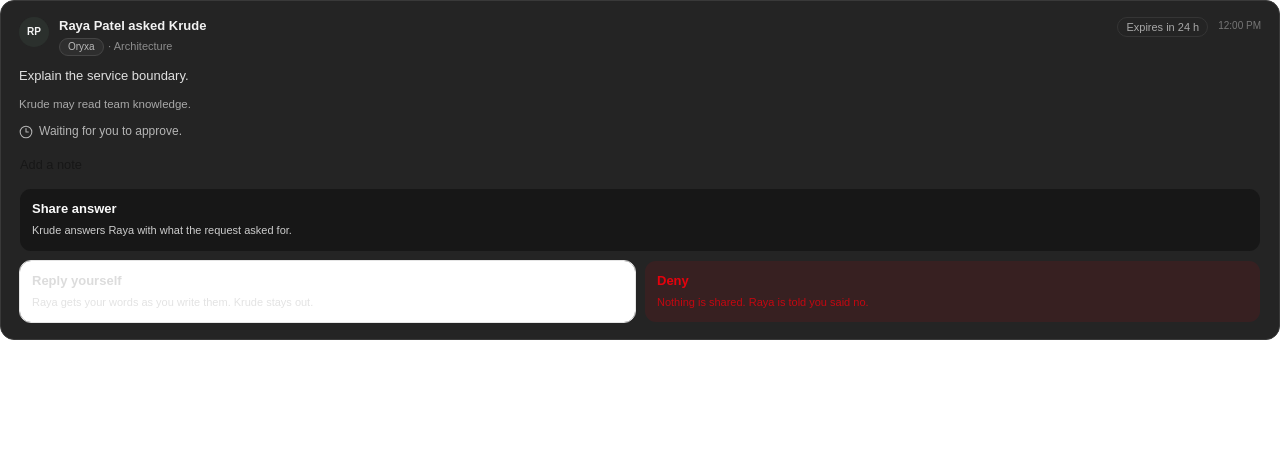
Reply yourself, under a request's own choices › is offered under a request an agent filed, between Share answer and Deny
Expected: the text "Waiting for you to approve." is shown, [39,123,182,140]
Click the button with aria-label "Reply yourself to Raya's request".
click(77, 280)  # box [19,260,636,323]
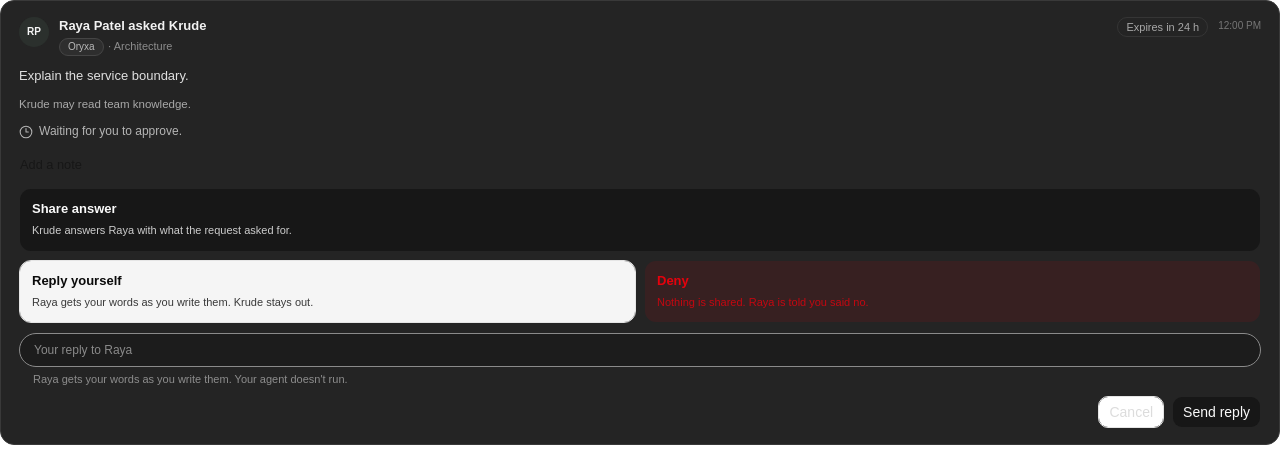
Type "Not before Friday." into the text box named "Reply yourself to Raya's request".
click(640, 350); type("Not before Friday.")  # box [34,337,1246,363]
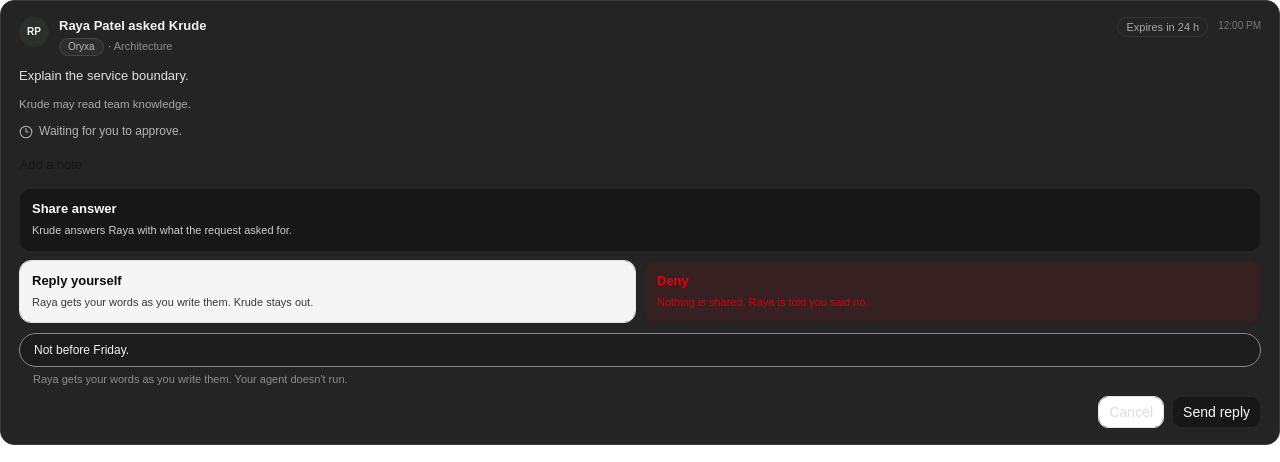
Click the button "Send reply".
click(1217, 412)  # box [1172,396,1261,428]
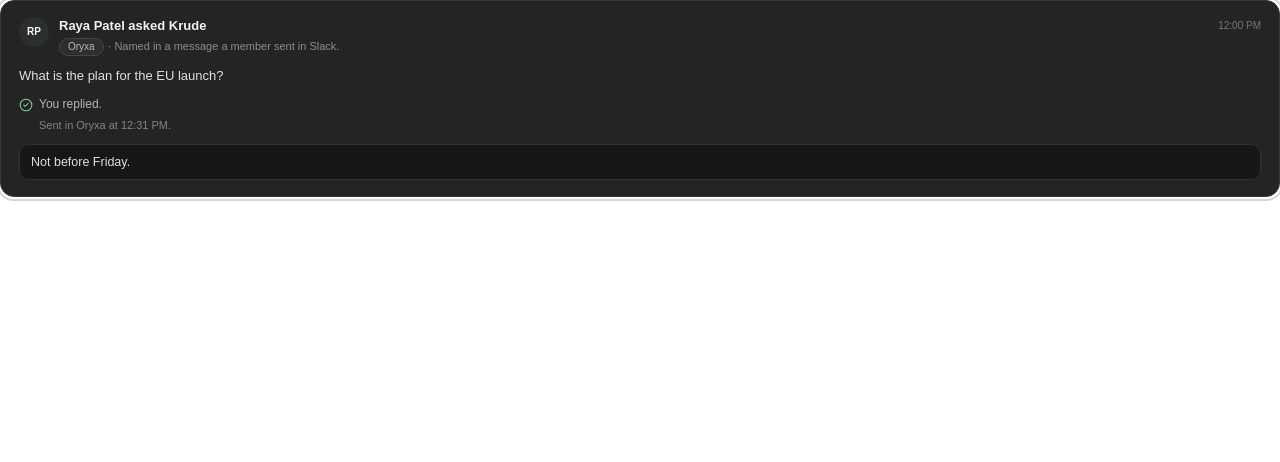
Now the text "You replied." is shown, box [39,96,102,114]
